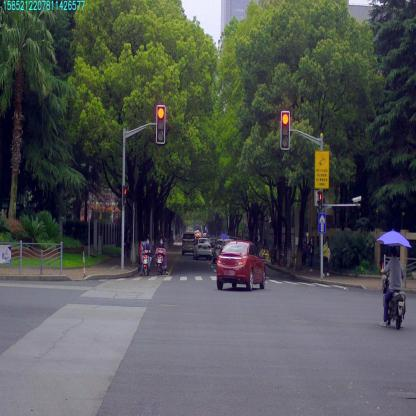traffic-light: (157, 105, 165, 143), (281, 112, 289, 148)
